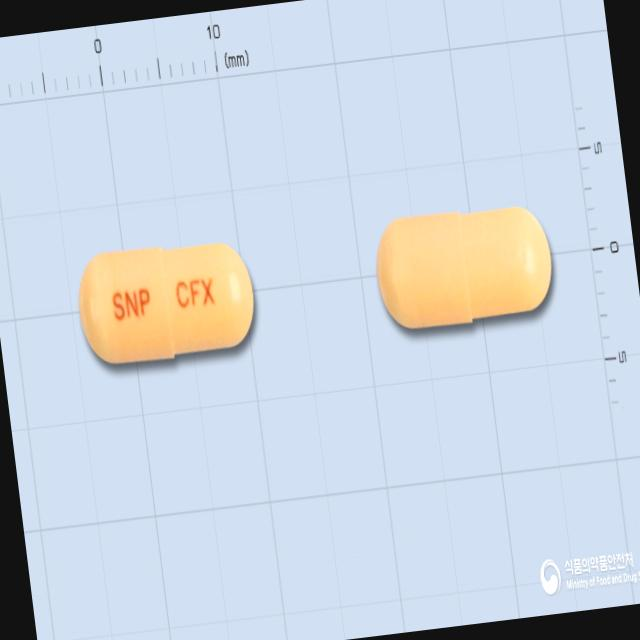A Progen Cefixime Cap: (71, 232, 262, 372)
